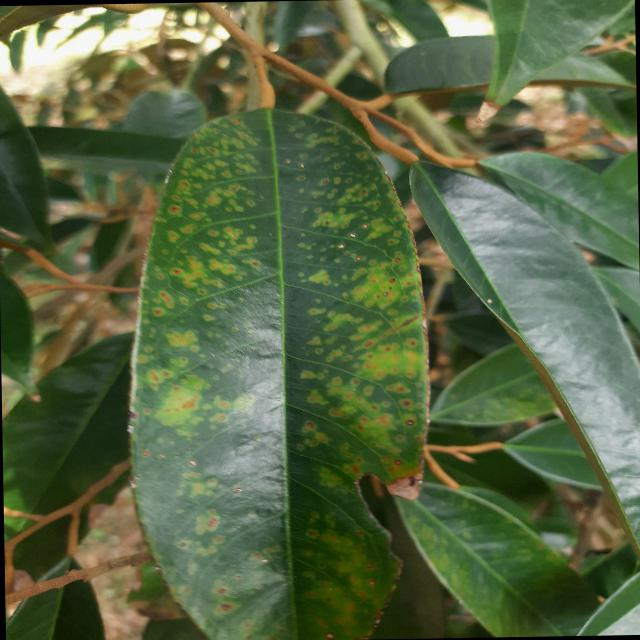Leaf Spot: (115, 94, 456, 639)
